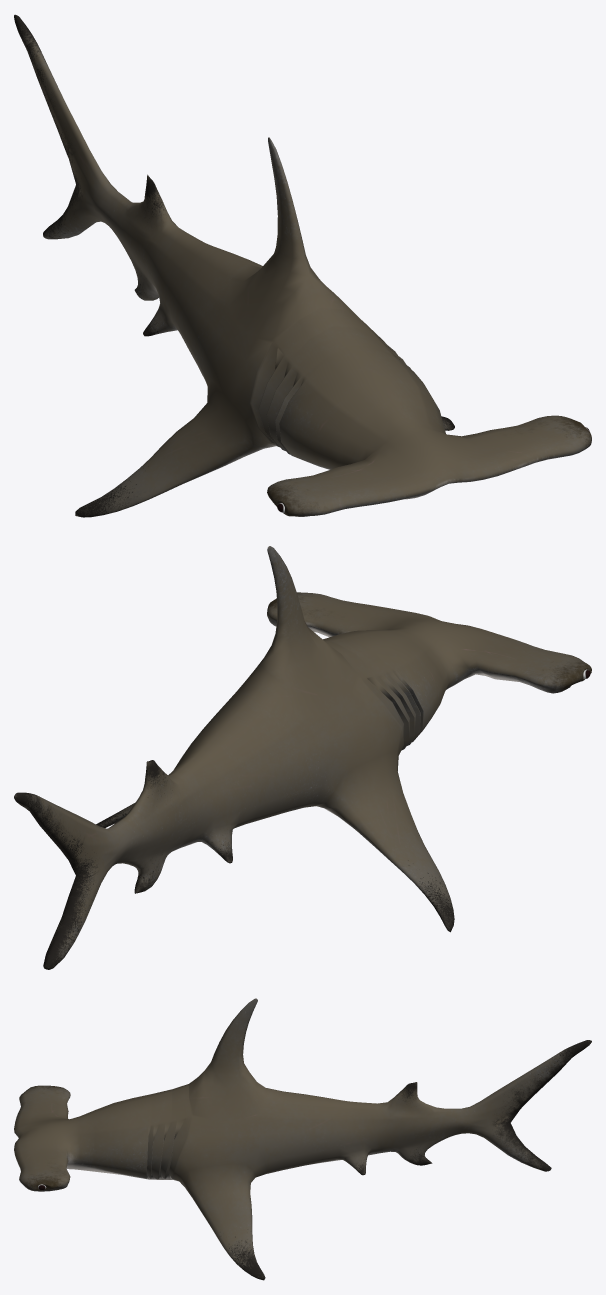
Rendered from hammerheadshark.glb.
The picture shows the model from 3 angles, top to bottom: view 1: azimuth 30°, elevation 25°; view 2: azimuth 150°, elevation 25°; view 3: azimuth 270°, elevation 25°; orthographic projection. The views are drawn at different scales.
Visible parts, largest first — view 1: Object_2; view 2: Object_2; view 3: Object_2.
Boxes of the visible parts, x1,y1,x2,y2 form: Object_2: (14, 16, 591, 517); Object_2: (18, 546, 591, 969); Object_2: (14, 998, 588, 1280).
Bounding box in the file's own units: 723 × 619 × 1462.
Materials: 1 (1 with a texture image).
